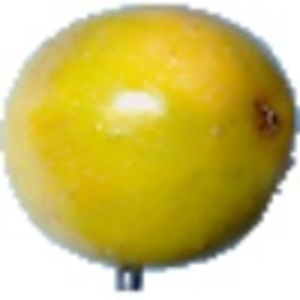maracujá: (1, 2, 300, 295)
